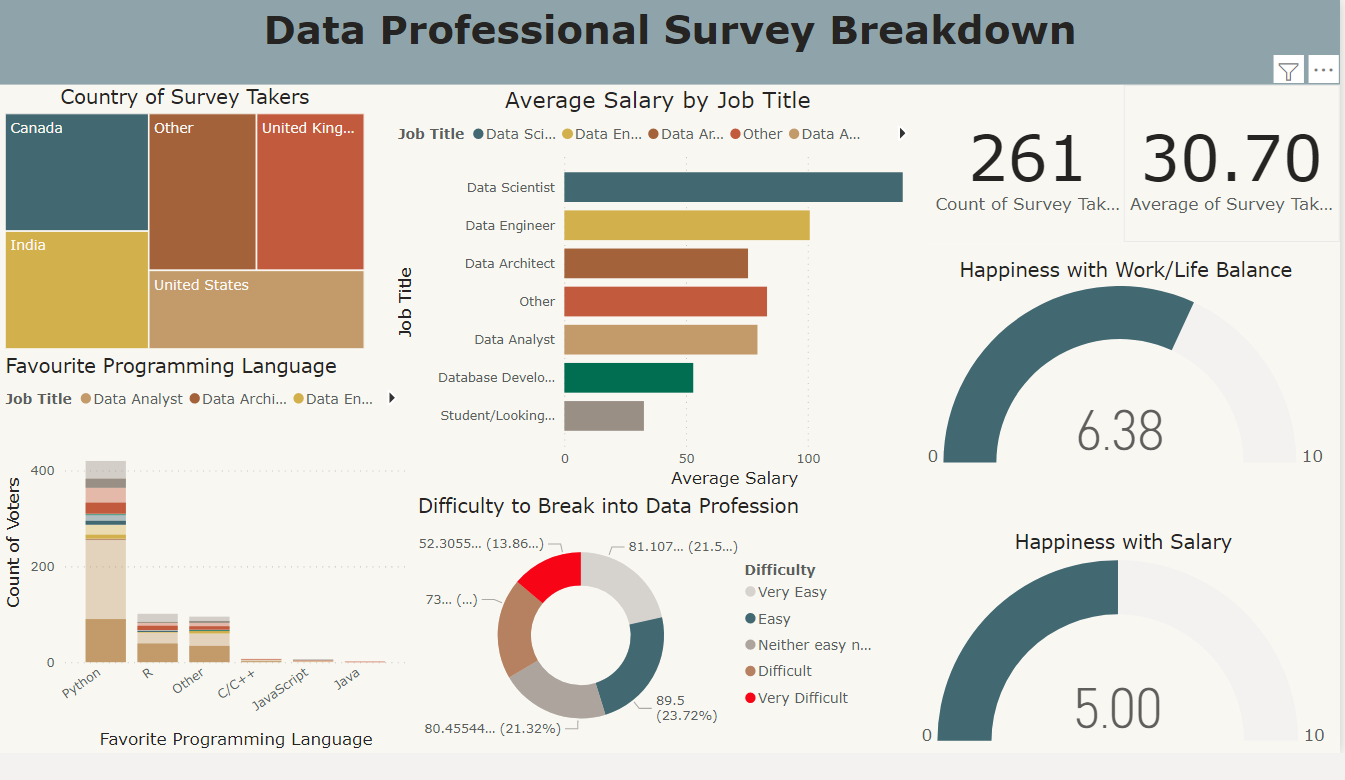

What the dashboard file says about the page in this screenshot:
{"tool":"powerbi","page":{"name":"Page 1","canvas":[1280,720],"ordinal":0},"visuals":[{"type":"textbox","box":[0,0,1280,81],"z":0},{"type":"card","fields":{"Values":["Count(Data Professional Survey.Unique ID)"]},"box":[888.6,81,186.8,151.1],"z":1000},{"type":"card","fields":{"Values":["Avg(Data Professional Survey.Q10 - Current Age)"]},"box":[1074,81,206,151.1],"z":2000},{"type":"barChart","title":"Average Salary by Job Title","fields":{"Category":["Data Professional Survey.Q1 - Which Title Best Fits your Current Role?.1"],"Y":["Avg(Data Professional Survey.Average Salary)"],"Series":["Data Professional Survey.Q1 - Which Title Best Fits your Current Role?.1"]},"box":[374.9,81,506.8,390],"z":2001},{"type":"columnChart","title":"Favourite Programming Language","fields":{"Category":["Data Professional Survey.Q5 - Favorite Programming Language.1"],"Y":["Count(Data Professional Survey.Unique ID)"],"Series":["Data Professional Survey.Q1 - Which Title Best Fits your Current Role?.1"]},"box":[0,337.9,394.2,381.8],"z":2002},{"type":"treemap","title":"Country of Survey Takers","fields":{"Group":["Data Professional Survey.Q11 - Which Country do you live in?.1"],"Values":["Count(Data Professional Survey.Q11 - Which Country do you live in?.1)"]},"box":[0,81,353,256.8],"z":2003},{"type":"gauge","title":"Happiness with Salary","fields":{"MinValue":["Min(Data Professional Survey.Q6 - How Happy are you in your Current Position with the following? (Salary))"],"MaxValue":["Max(Data Professional Survey.Q6 - How Happy are you in your Current Position with the following? (Salary))1"],"Y":["Avg(Data Professional Survey.Q6 - How Happy are you in your Current Position with the following? (Salary))2"]},"box":[870.7,506.8,405.2,212.9],"z":2004},{"type":"gauge","title":"Happiness with Work/Life Balance","fields":{"Y":["Avg(Data Professional Survey.Q6 - How Happy are you in your Current Position with the following? (Work/Life Balance))"],"MinValue":["Min(Data Professional Survey.Q6 - How Happy are you in your Current Position with the following? (Work/Life Balance))1"],"MaxValue":["Max(Data Professional Survey.Q6 - How Happy are you in your Current Position with the following? (Work/Life Balance))2"]},"box":[870.7,245.8,409.3,206],"z":2005},{"type":"donutChart","title":"Difficulty to Break into Data Profession","fields":{"Y":["Avg(Data Professional Survey.Average Salary)"],"Series":["Data Professional Survey.Q7 - How difficult was it for you to break into Data?"]},"box":[394.2,471.1,456,248.6],"z":2006}]}

Visuals, with their boxes on the page's 1280x720 design canvas (x1, y1, x2, y2). These are canvas units, not pixel positions in the 1345x780 screenshot, which may show the page scaled, cropped or inside an application window:
textbox: left=0, top=0, right=1280, bottom=81
card - Count(Data Professional Survey.Unique ID): left=889, top=81, right=1075, bottom=232
card - Avg(Data Professional Survey.Q10 - Current Age): left=1074, top=81, right=1280, bottom=232
"Average Salary by Job Title" barChart: left=375, top=81, right=882, bottom=471
"Favourite Programming Language" columnChart: left=0, top=338, right=394, bottom=720
"Country of Survey Takers" treemap: left=0, top=81, right=353, bottom=338
"Happiness with Salary" gauge: left=871, top=507, right=1276, bottom=720
"Happiness with Work/Life Balance" gauge: left=871, top=246, right=1280, bottom=452
"Difficulty to Break into Data Profession" donutChart: left=394, top=471, right=850, bottom=720
